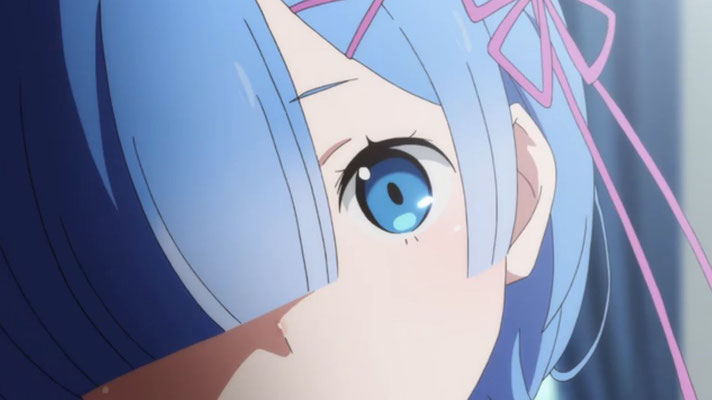rem: (1, 2, 625, 400)
